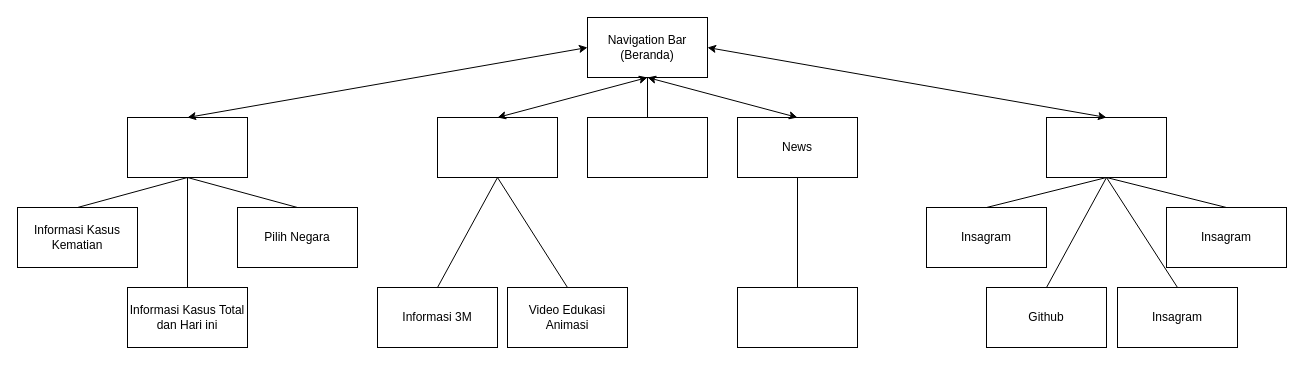
Image size: 1304x365. Some labels were removed from this diagram. The box of each missing label's shape, as (x1, y1, x2, y2) in pixels:
Berita Terkini dari Satgas COVID-19 Indonesia: (736, 286, 858, 348)
Edukasi: (436, 116, 558, 178)
Kasus COVID-19 Dunia Real Time: (586, 116, 708, 178)
Peta Sebaran: (126, 116, 248, 178)
Social Media Profile: (1046, 116, 1166, 178)
